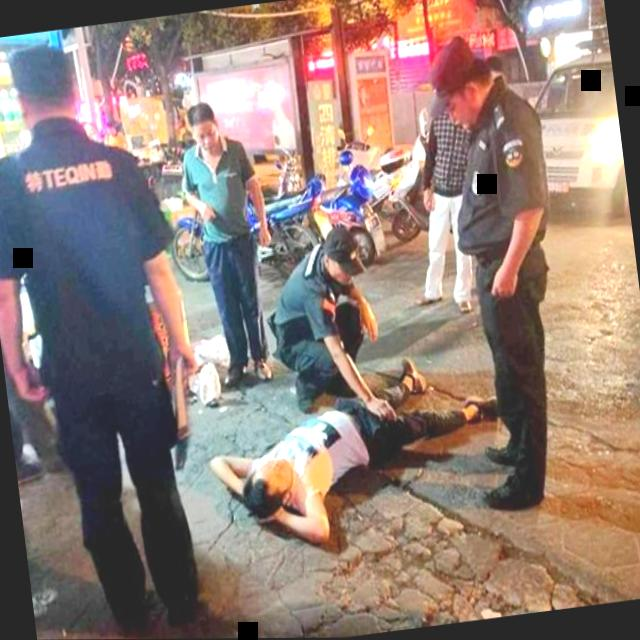Fall-Detected: (189, 332, 510, 558)
